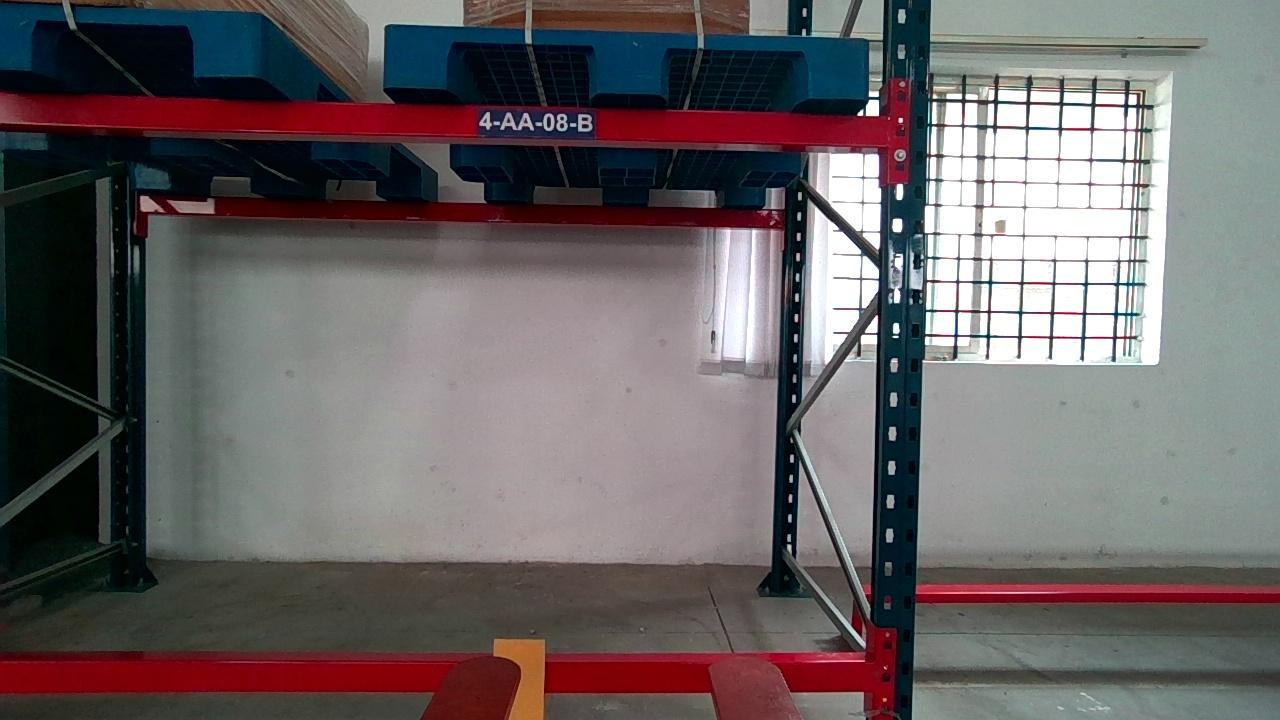h_rack: (0, 90, 890, 149)
orange_strip: (495, 638, 549, 718)
small_pallet: (383, 23, 870, 99), (1, 4, 258, 75)
